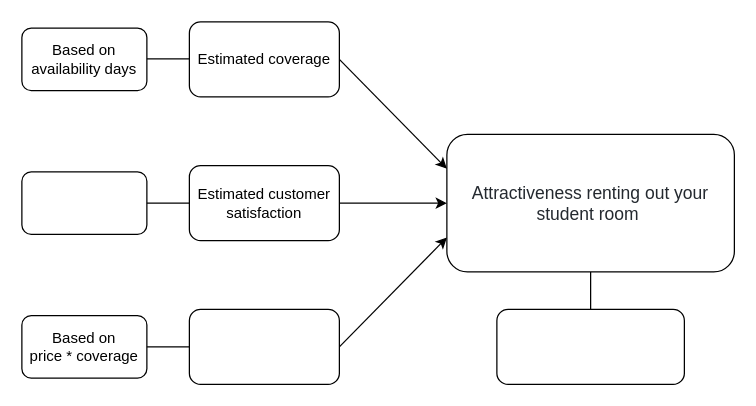
This 756x406 diagram has some shape labels left out. Each missing label, with the centre of its shape:
Based on review ratings: pixel 84 202
Estimated income: pixel 263 346
Number of listings = 1 Property type = Private room in rental unit: pixel 590 346
